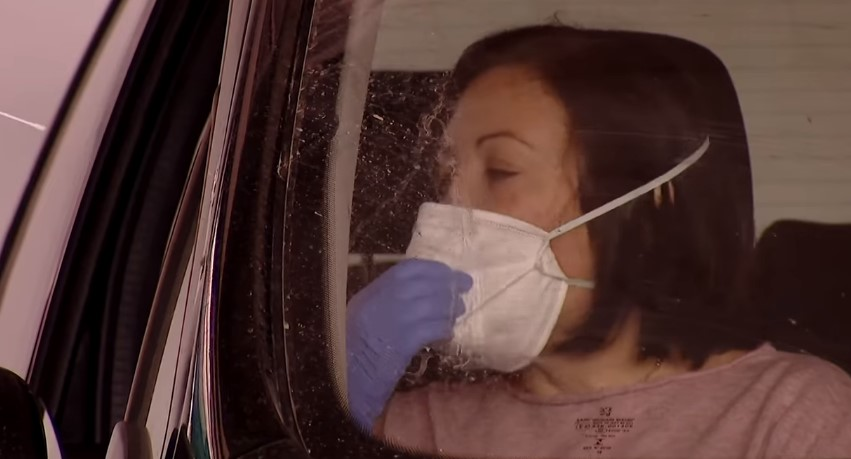face_with_mask: (390, 24, 763, 372)
